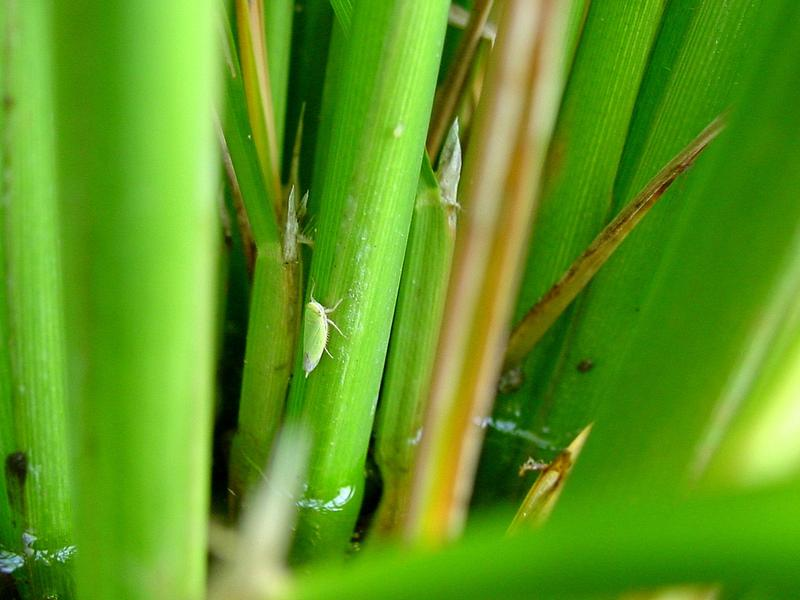Gall_midge: (270, 271, 364, 396)
